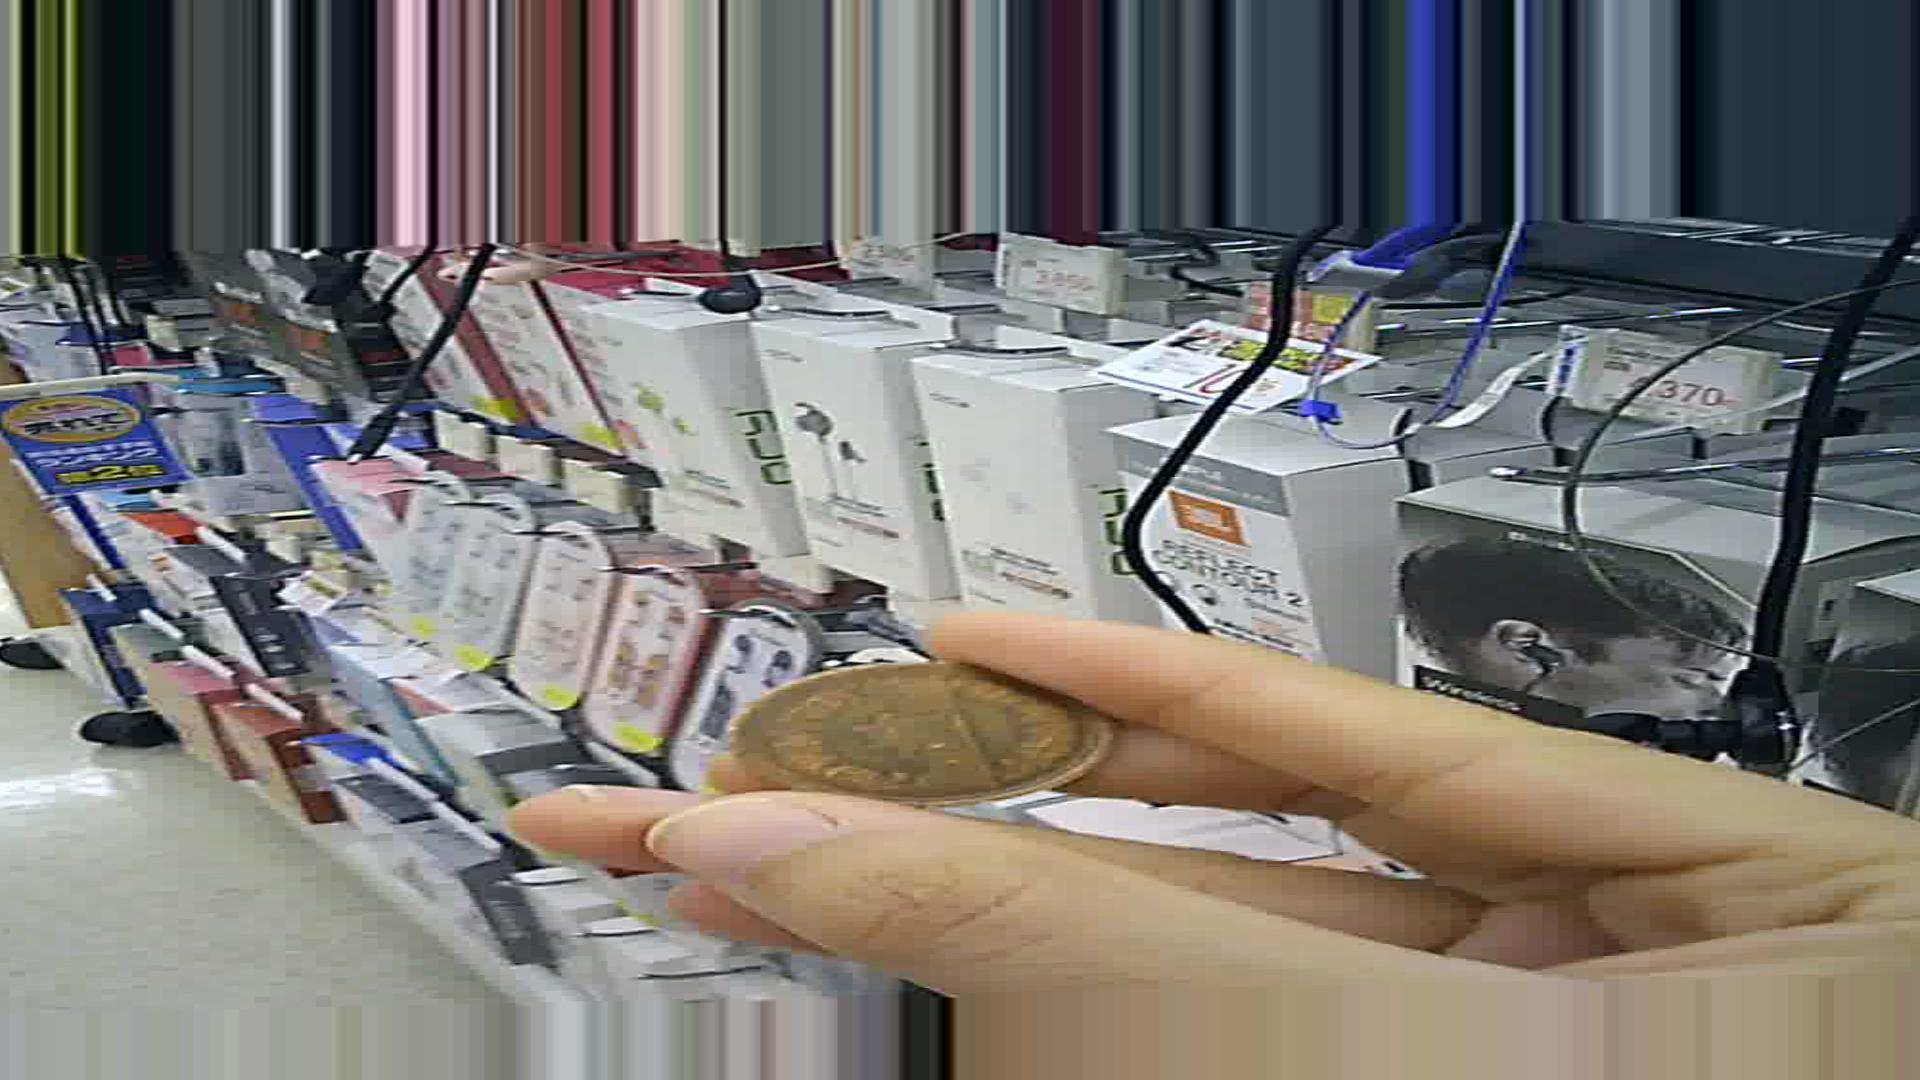10 Yen: (731, 655, 1110, 831)
